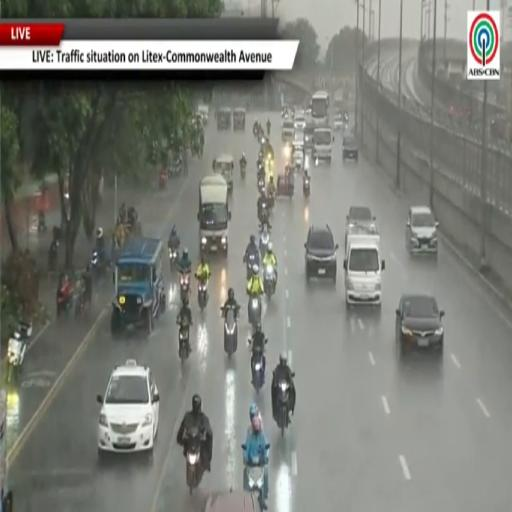bus: (310, 91, 329, 126)
car: (97, 360, 159, 454), (111, 237, 166, 335), (396, 295, 444, 355), (304, 226, 338, 283), (406, 206, 438, 254), (345, 221, 379, 254), (204, 491, 260, 511), (346, 206, 375, 226), (342, 136, 358, 162), (333, 111, 348, 132), (304, 125, 314, 150), (197, 105, 209, 125), (294, 116, 306, 130), (294, 130, 304, 145)
jeepney: (217, 107, 231, 130), (233, 108, 245, 131)
motorcycle: (244, 444, 269, 510), (6, 323, 32, 383), (186, 427, 203, 494), (221, 308, 238, 358), (277, 380, 290, 436), (252, 348, 264, 393), (178, 319, 190, 361), (90, 249, 107, 278), (57, 292, 74, 317), (248, 296, 261, 328), (264, 265, 275, 298), (246, 252, 258, 280), (48, 239, 58, 271), (198, 279, 208, 311), (180, 272, 190, 301), (259, 227, 269, 255), (258, 201, 269, 225), (168, 248, 178, 271), (158, 171, 168, 190), (38, 212, 47, 232), (268, 189, 275, 211), (303, 178, 310, 198), (258, 176, 265, 193), (240, 164, 246, 179)
tricycle: (277, 175, 294, 198)
truck: (344, 236, 384, 308), (198, 174, 231, 253)
